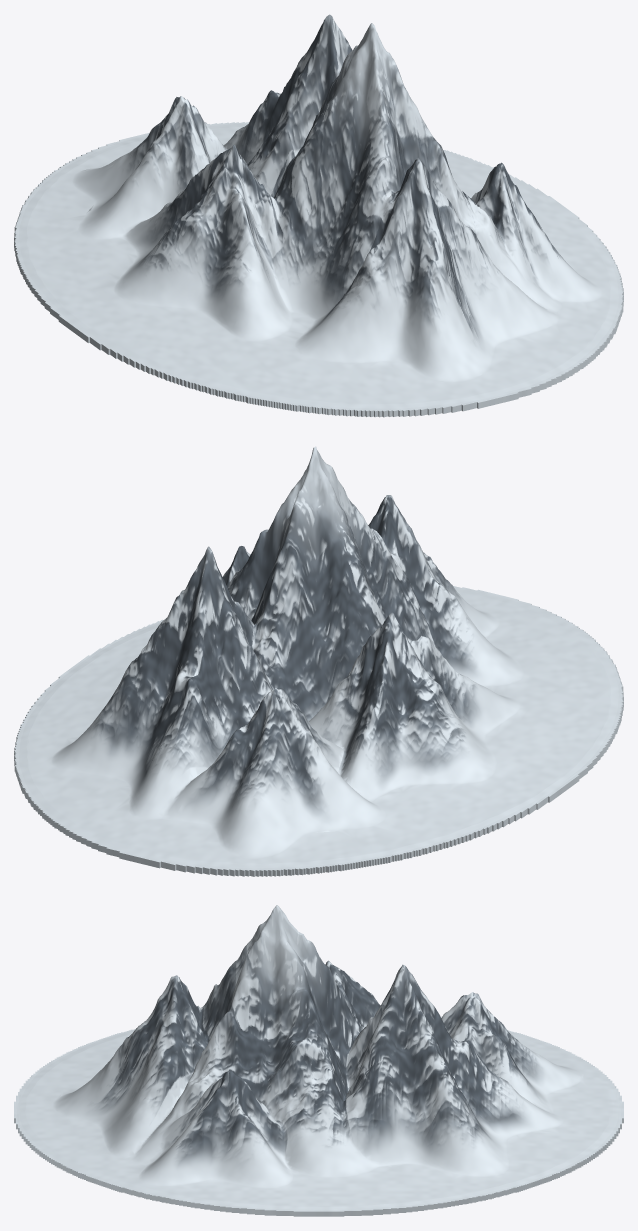
Rendered from IceAgeMountain_Medium.obj.
3 views of the same model, one above another, from view 1: azimuth 30°, elevation 25°; view 2: azimuth 150°, elevation 25°; view 3: azimuth 270°, elevation 25° (orthographic). The views are drawn at different scales.
Visible parts, largest first — view 1: IceAgeMountain_Medium; view 2: IceAgeMountain_Medium; view 3: IceAgeMountain_Medium.
Boxes of the visible parts, x1,y1,x2,y2 form: IceAgeMountain_Medium: (14,14,623,417); IceAgeMountain_Medium: (14,446,623,876); IceAgeMountain_Medium: (14,905,623,1216).
Size of the model in its own units: 147 by 74.71 by 186.
1 material, 1 textured.
